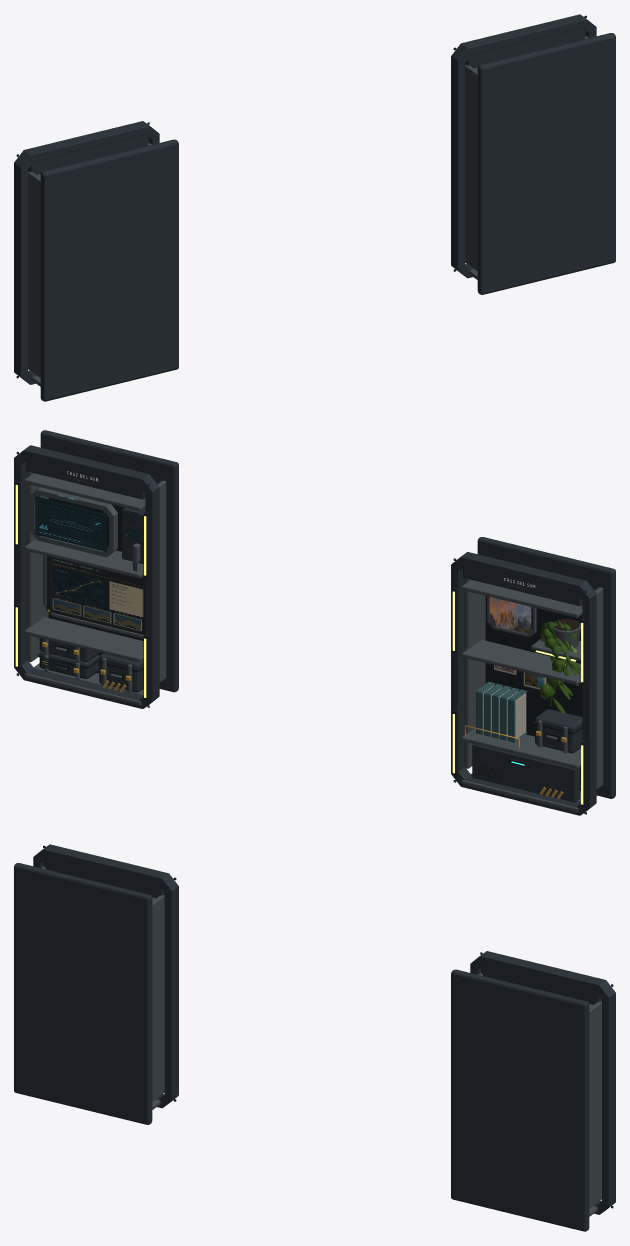
The model's file is cruz-del-sur-reference-cassettes.glb.
3 views of the same model, one above another, from view 1: azimuth 30°, elevation 25°; view 2: azimuth 150°, elevation 25°; view 3: azimuth 330°, elevation 25° (orthographic).
Visible parts, largest first — view 1: CDS NICHE / Batch / Graphite ceramic armor.001, CDS NICHE / Batch / Brushed titanium.001; view 2: CDS NICHE / Batch / Graphite ceramic armor.001, CDS NICHE / Batch / Brushed titanium.001, CDS NICHE / Batch / Deep rubber and cavities.001, CDS NICHE / expedition route and printed notes.001, CDS NICHE / Batch / Diagnostics screen.001, CDS NICHE / Batch / Field journal cloth.001, CDS NICHE / Batch / Warm protected LED diffuser.001, CDS NICHE / Batch / CDS POLISH / Matte expedition photograph, CDS NICHE / Batch / Specimen jade leaves.001, CDS NICHE / Batch / Journal page edges.001, CDS NICHE / Batch / Muted safety ochre.001; view 3: CDS NICHE / Batch / Graphite ceramic armor.001, CDS NICHE / Batch / Brushed titanium.001.
Boxes of the visible parts, x1,y1,x2,y2 form: CDS NICHE / Batch / Graphite ceramic armor.001: (14,14,615,401); CDS NICHE / Batch / Brushed titanium.001: (28,36,588,386); CDS NICHE / Batch / Graphite ceramic armor.001: (14,430,615,815); CDS NICHE / Batch / Brushed titanium.001: (17,452,603,813); CDS NICHE / Batch / Deep rubber and cavities.001: (15,451,596,814); CDS NICHE / expedition route and printed notes.001: (46,556,145,634); CDS NICHE / Batch / Diagnostics screen.001: (35,496,138,551); CDS NICHE / Batch / Field journal cloth.001: (476,681,527,742); CDS NICHE / Batch / Warm protected LED diffuser.001: (15,484,583,804); CDS NICHE / Batch / CDS POLISH / Matte expedition photograph: (490,597,543,687); CDS NICHE / Batch / Specimen jade leaves.001: (540,621,580,713); CDS NICHE / Batch / Journal page edges.001: (483,665,546,739); CDS NICHE / Batch / Muted safety ochre.001: (42,479,566,798); CDS NICHE / Batch / Graphite ceramic armor.001: (14,844,615,1231); CDS NICHE / Batch / Brushed titanium.001: (41,866,601,1216).
Bounding box in the file's own units: 7.54 × 2.88 × 0.71.
15 materials, 5 textured.
